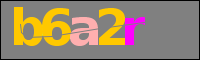2: (97, 6, 126, 47)
6: (41, 5, 71, 50)
a: (70, 15, 100, 47)
b: (11, 5, 44, 47)
r: (123, 15, 147, 46)
